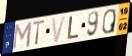9: (87, 10, 100, 37)
L: (66, 15, 80, 41)
M: (12, 21, 33, 50)
Q: (101, 8, 117, 35)
T: (32, 19, 47, 47)
V: (51, 15, 67, 44)
